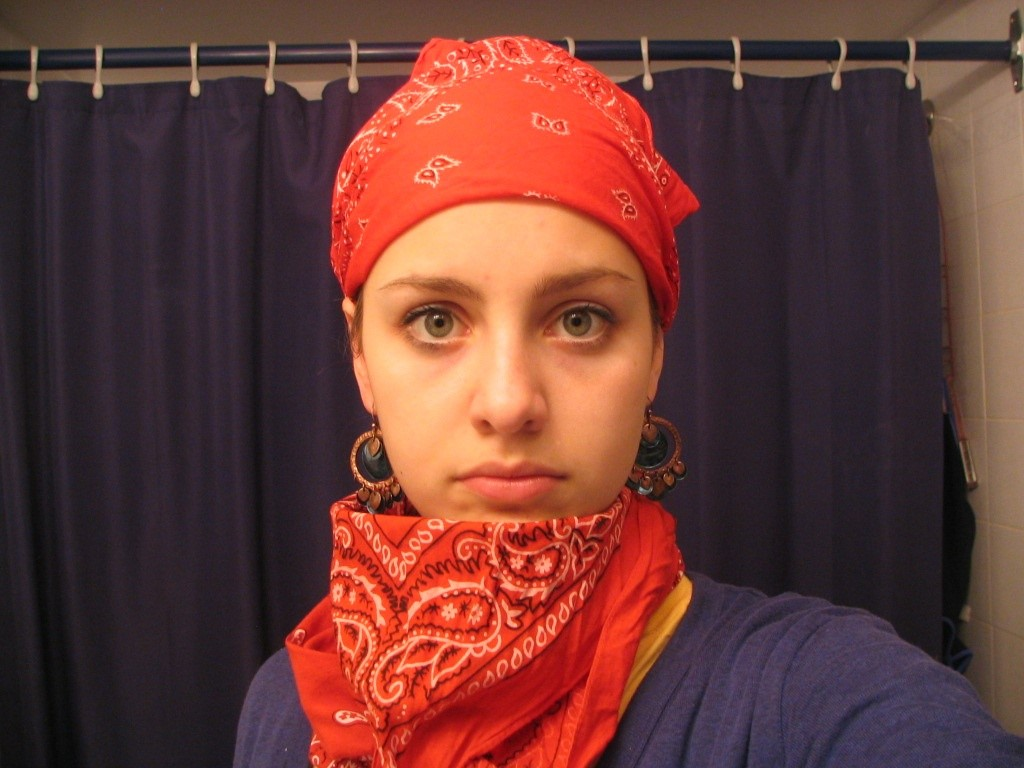face_no_mask: (354, 152, 648, 540)
